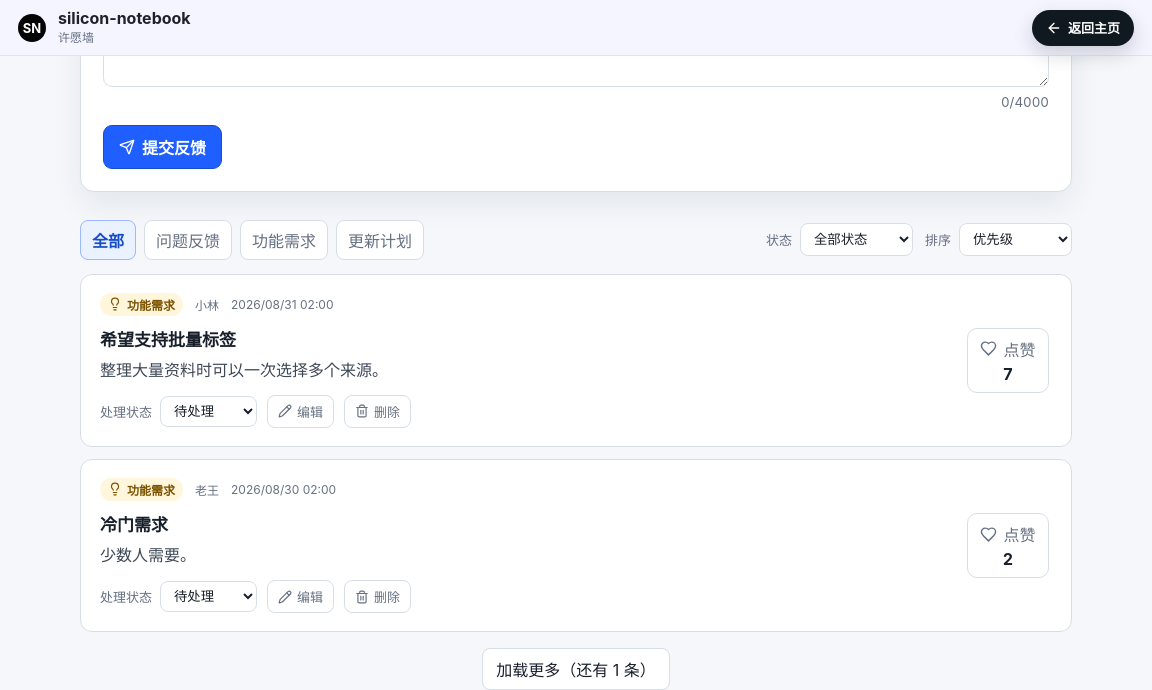
Test case: 点赞后的窗口刷新在途时保存另一张卡片的编辑，会重启对齐而不是留下旧游标
The width and height of the screenshot is (1152, 690).
(page scrolled)
Check: the text "希望支持批量标签" is shown, box [100, 330, 236, 350]
Click the button "点赞 7" at point(1008, 360), box [967, 328, 1049, 393]
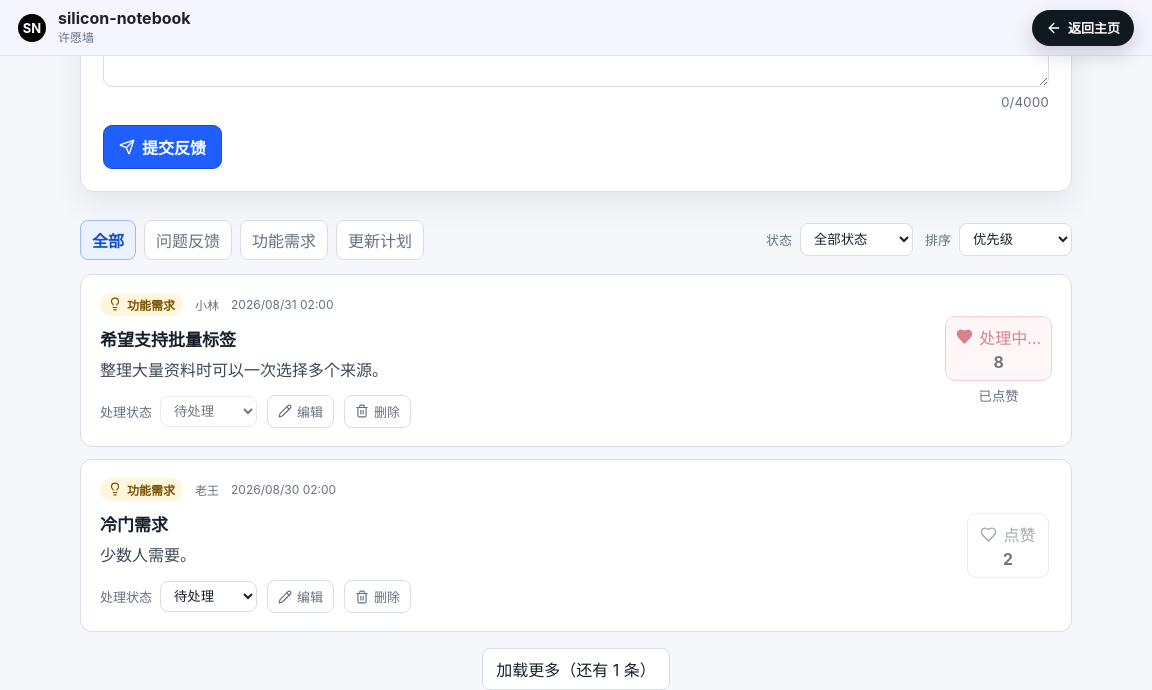
Check: the text "希望支持批量标签" is shown, box [100, 330, 236, 350]
Check: the dropdown labelled "处理状态" below "整理大量资料时可以一次选择多个来源。" is disabled, box [160, 396, 257, 427]
Click the button "编辑" below "少数人需要。" at point(300, 597), box [267, 580, 334, 613]
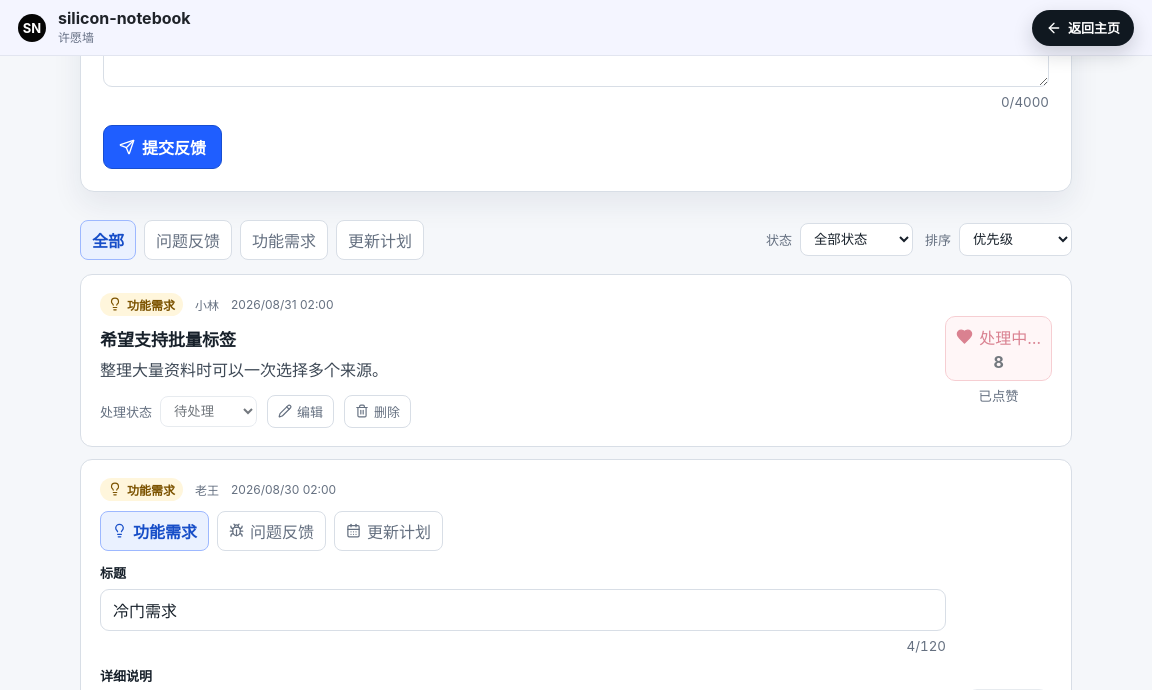
Replace the text in the field named "修改标题" with "改了标题" at point(523, 610), box [100, 589, 946, 631]
(page scrolled)
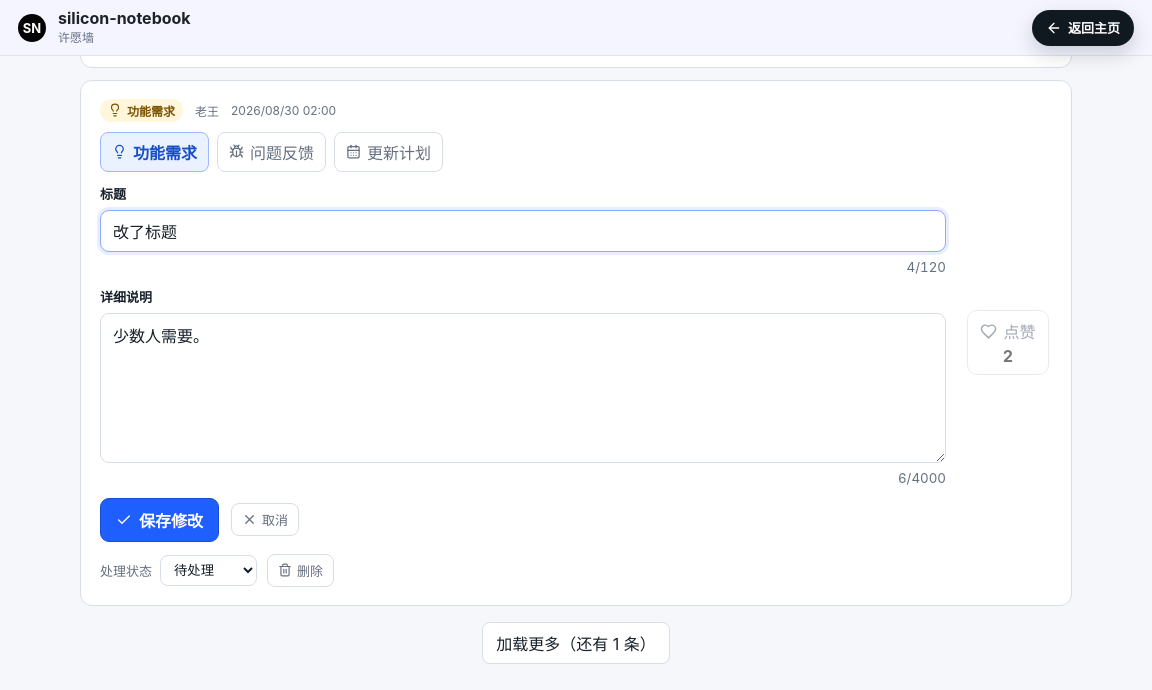
Click the button "保存修改" at point(160, 520), box [100, 498, 219, 542]
(page scrolled)
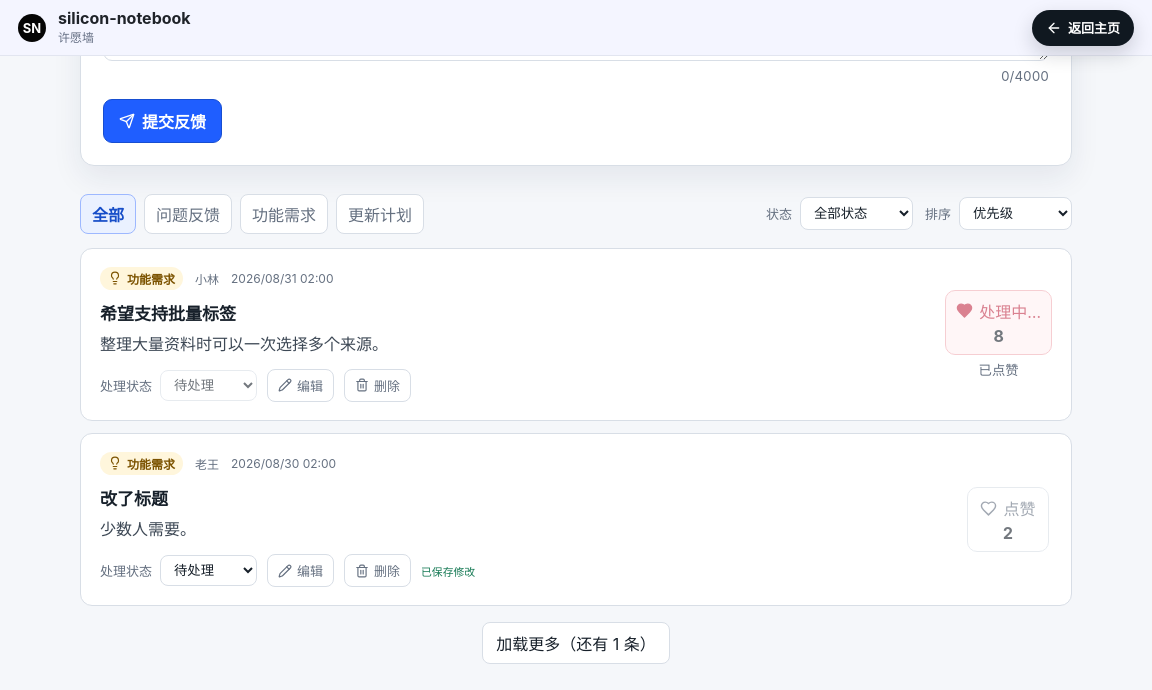
Check: the text "希望支持批量标签" is shown, box [100, 304, 236, 324]
Check: the button "处理中… 8" is shown, box [945, 290, 1052, 355]
Check: the heading "改了标题" is shown, box [100, 489, 168, 509]
